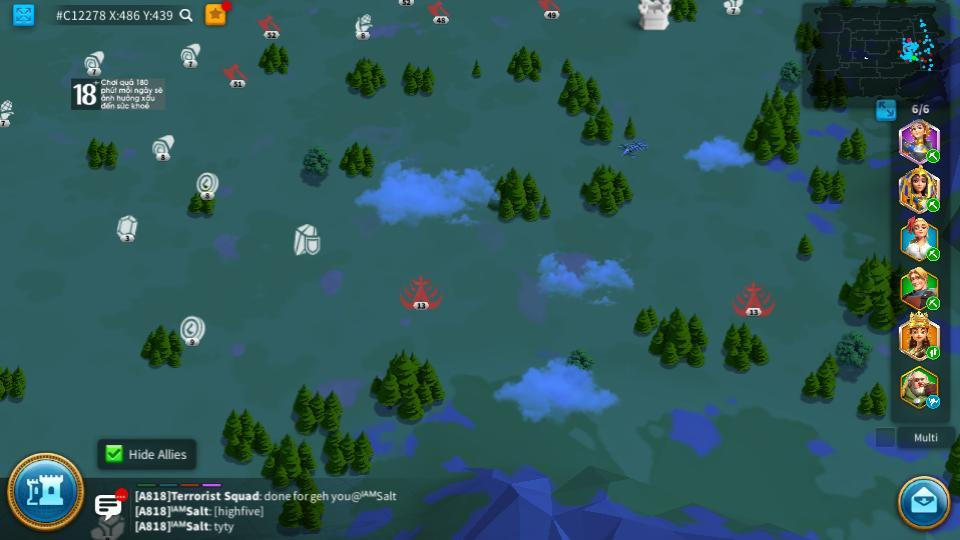gem-z-out: (114, 214, 138, 240)
march_farming: (925, 197, 941, 212), (925, 297, 941, 310), (925, 149, 941, 162), (925, 347, 941, 359), (925, 249, 941, 261)
